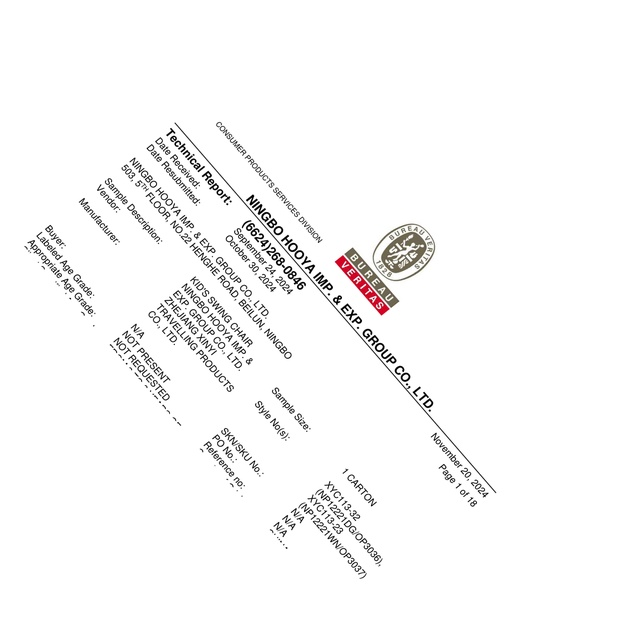bureau_veritas: (336, 222, 438, 318)
